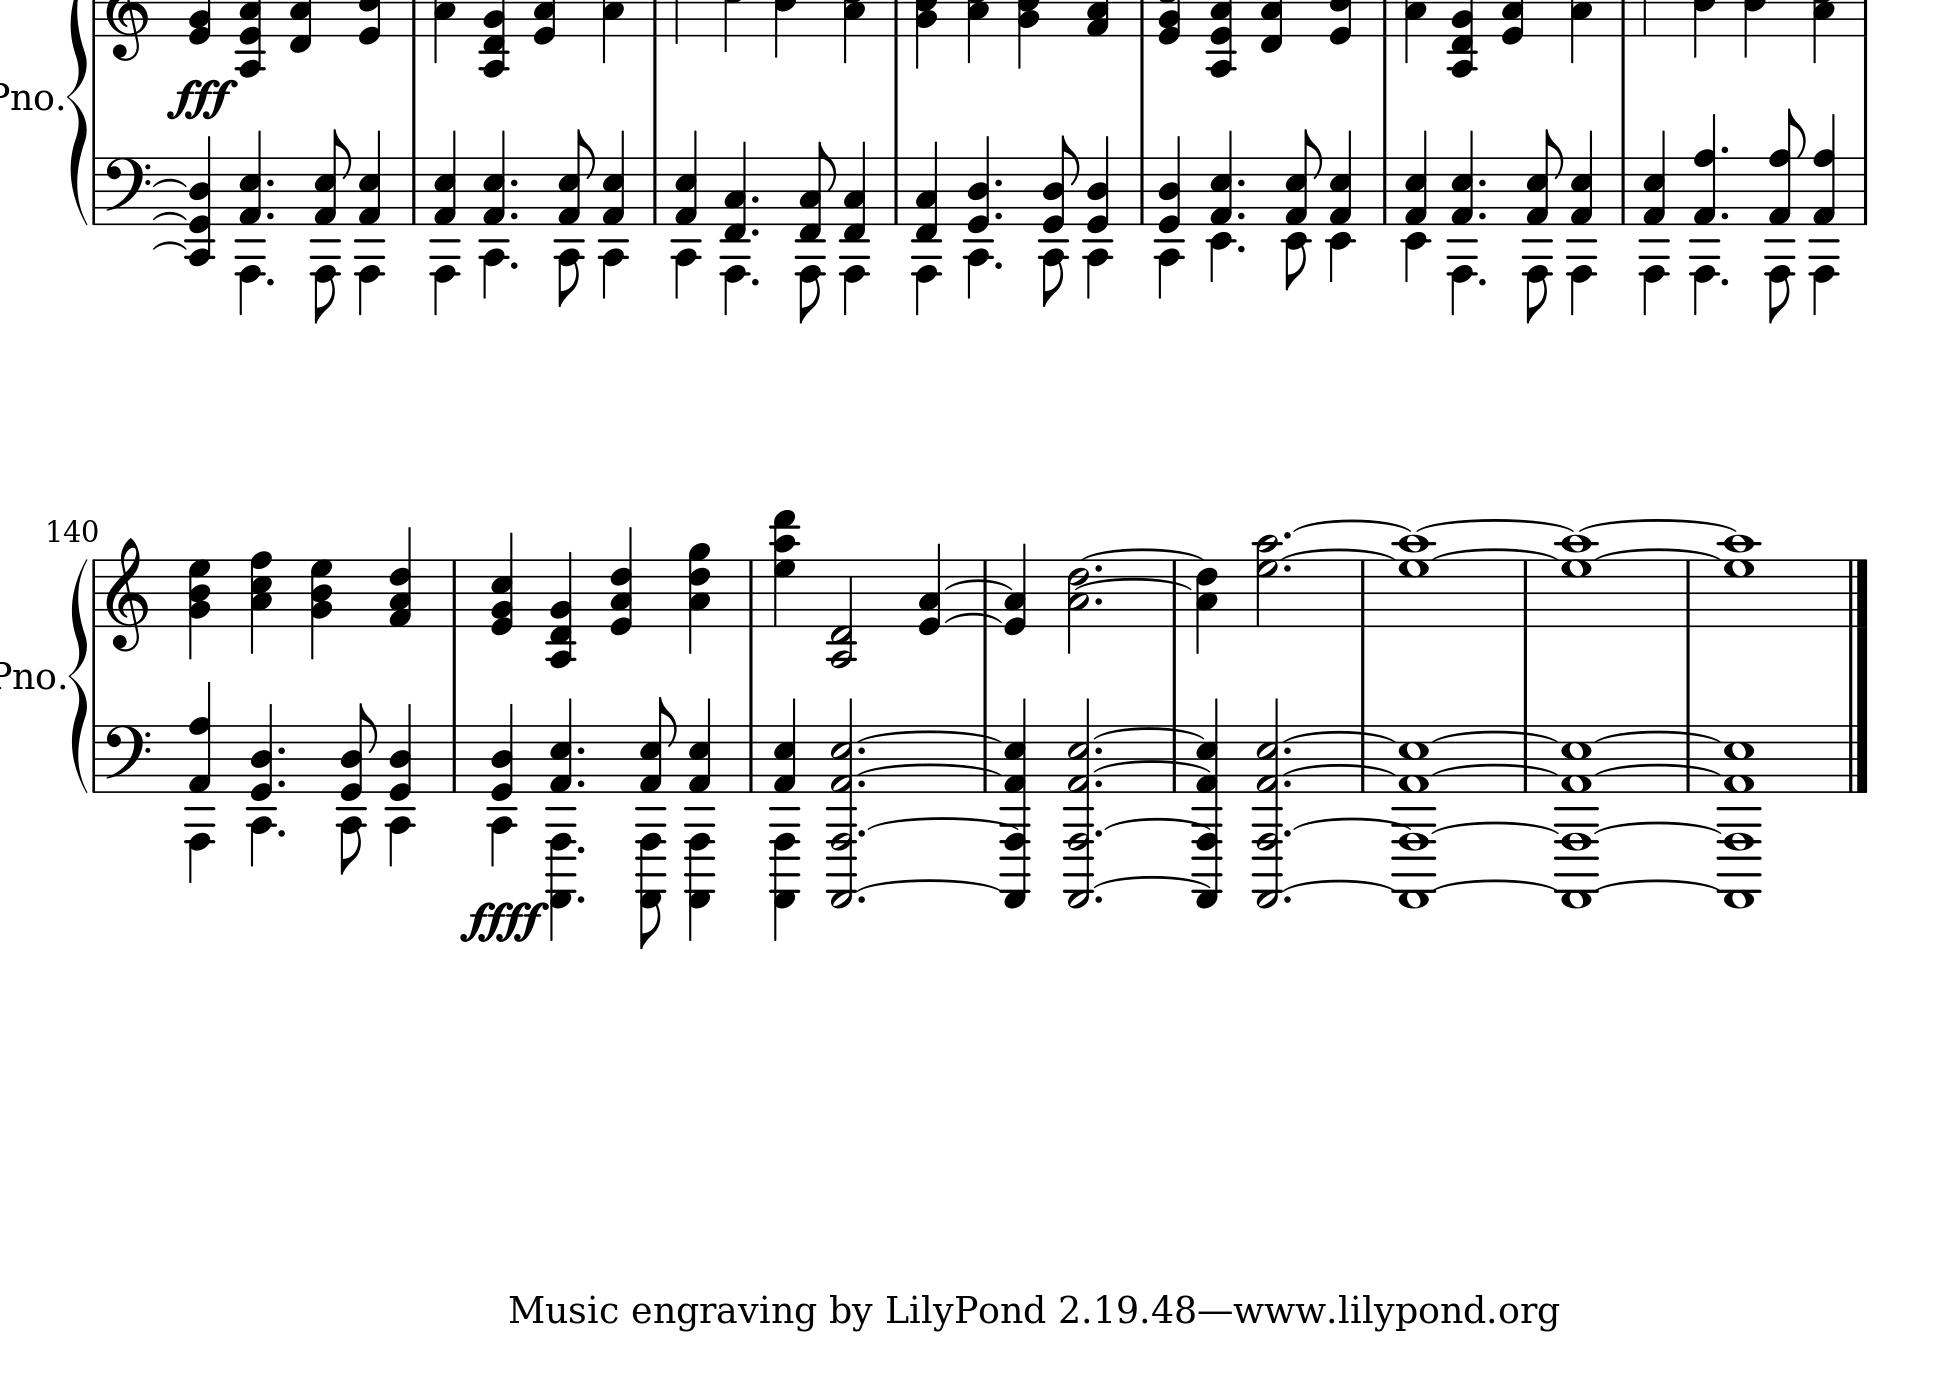0: (81, 516, 97, 544)
1: (46, 517, 61, 544)
1_4th: (1722, 724, 1761, 912), (1560, 724, 1596, 910), (1398, 723, 1431, 912)
1_7_10: (1392, 529, 1431, 628), (1560, 531, 1597, 628), (1720, 534, 1758, 628)
2_-4_-1: (826, 558, 858, 669)
2_3_6: (1066, 556, 1092, 652)
2_4th: (825, 696, 856, 910), (1254, 696, 1282, 916), (1065, 696, 1093, 910)
2_7_10: (1252, 532, 1284, 628)
4: (63, 517, 81, 544)
4_0_3: (1002, 541, 1029, 637), (918, 541, 942, 637)
4_3_6: (1195, 558, 1219, 652)
4_4th: (1191, 693, 1221, 910), (1002, 694, 1029, 910)
4_th: (544, 549, 577, 669), (769, 505, 799, 628), (487, 528, 517, 640), (684, 538, 711, 652), (247, 547, 274, 655), (387, 523, 414, 630), (609, 525, 634, 637), (184, 556, 211, 658), (307, 556, 333, 660)
Brace: (63, 1, 88, 226), (69, 556, 88, 795)
Fclef: (102, 723, 154, 795), (103, 154, 151, 226)
Final_barline: (1843, 556, 1870, 625), (1843, 723, 1869, 792)
Gclef: (103, 535, 148, 652)
Pno: (1, 657, 55, 694), (1, 79, 52, 114)
Single_barline: (1167, 721, 1188, 792), (1354, 723, 1374, 793), (1167, 559, 1186, 625), (1680, 723, 1698, 792), (742, 559, 760, 625), (445, 559, 463, 625), (1518, 724, 1536, 790), (888, 156, 904, 223), (976, 724, 993, 792), (1134, 156, 1150, 222), (1615, 156, 1632, 220), (1377, 157, 1393, 222), (976, 556, 993, 621), (1680, 561, 1696, 625), (1356, 559, 1371, 625), (1518, 559, 1533, 625), (447, 724, 462, 790), (742, 724, 757, 790), (406, 157, 421, 222), (646, 157, 661, 222), (1858, 156, 1872, 226), (88, 724, 102, 790), (88, 156, 100, 223), (88, 559, 100, 625)
Slur: (1578, 517, 1737, 534), (862, 816, 1017, 832), (1417, 517, 1573, 532), (1081, 544, 1203, 562), (1596, 727, 1722, 744), (850, 729, 1000, 742), (1434, 727, 1560, 742), (859, 762, 997, 775), (850, 879, 1005, 891), (1288, 517, 1411, 532), (1284, 727, 1399, 742), (1434, 763, 1558, 777), (1434, 546, 1557, 559), (1596, 546, 1719, 559), (1090, 874, 1212, 888), (1080, 577, 1200, 591), (1090, 726, 1209, 739), (1288, 816, 1405, 829), (1102, 816, 1204, 831), (1284, 877, 1395, 891), (1596, 820, 1720, 832), (1596, 763, 1719, 775), (1434, 820, 1557, 832), (1596, 877, 1719, 889), (1435, 877, 1557, 889), (1278, 547, 1398, 559), (1092, 760, 1207, 772), (1284, 763, 1398, 775), (948, 577, 1014, 591), (943, 610, 1002, 625), (151, 210, 187, 220), (151, 240, 187, 250), (151, 178, 187, 187)
dot: (1719, 142, 1731, 157), (993, 174, 1005, 189), (1236, 174, 1248, 189), (750, 190, 762, 205), (274, 742, 286, 757), (276, 775, 288, 790), (508, 175, 520, 189), (1477, 175, 1489, 189), (1719, 208, 1731, 222), (508, 208, 520, 222), (993, 208, 1005, 222), (1236, 208, 1248, 222), (748, 225, 762, 237), (508, 258, 520, 271), (993, 258, 1005, 271), (574, 742, 586, 756), (1281, 742, 1293, 756), (574, 775, 586, 789), (276, 825, 288, 838), (1236, 241, 1248, 253), (1719, 274, 1731, 286), (264, 274, 276, 286), (1281, 529, 1293, 541), (1093, 595, 1105, 607), (1092, 742, 1104, 754), (855, 826, 867, 838), (574, 892, 586, 904), (1093, 892, 1105, 904), (265, 175, 276, 189), (265, 208, 276, 220), (1477, 208, 1488, 220), (750, 274, 760, 286), (1477, 274, 1488, 286), (1093, 561, 1104, 573), (1282, 562, 1293, 574), (855, 744, 865, 756), (1093, 826, 1104, 838), (1282, 826, 1293, 838), (576, 843, 586, 855), (856, 892, 867, 904), (1282, 892, 1293, 904), (1282, 778, 1293, 789), (856, 777, 865, 789), (1095, 777, 1104, 789)
fff: (166, 76, 240, 123)
ffff: (460, 898, 544, 945)
